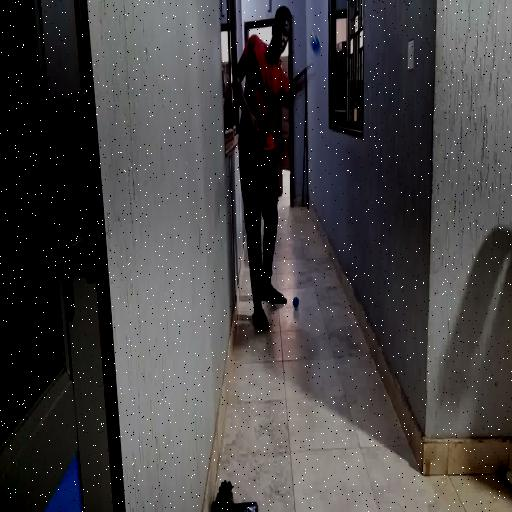plastic-ball: (311, 32, 322, 55)
